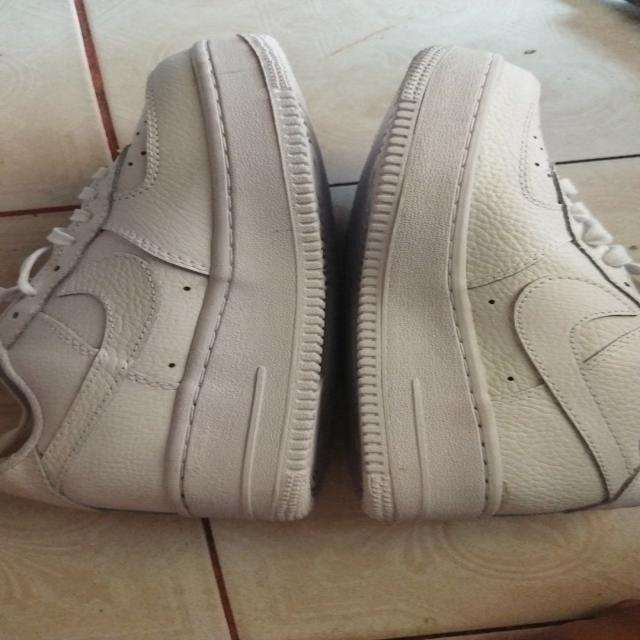nike fake air force: (1, 26, 339, 525), (336, 38, 638, 530)
